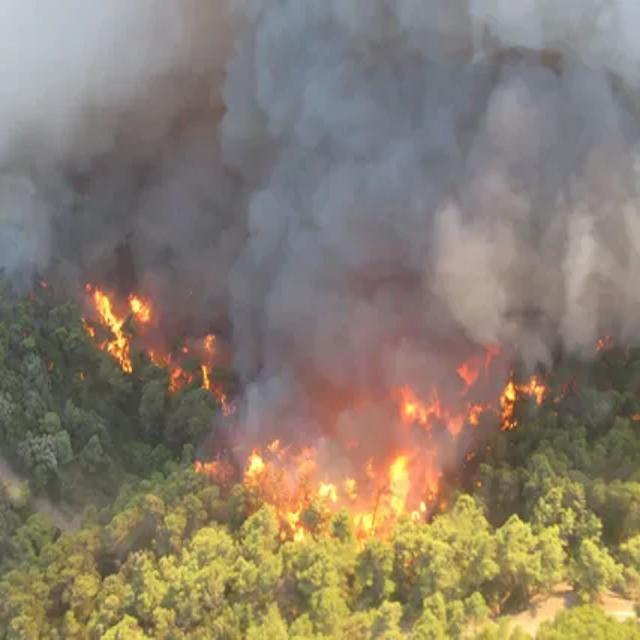Smoke: (1, 0, 640, 477)
